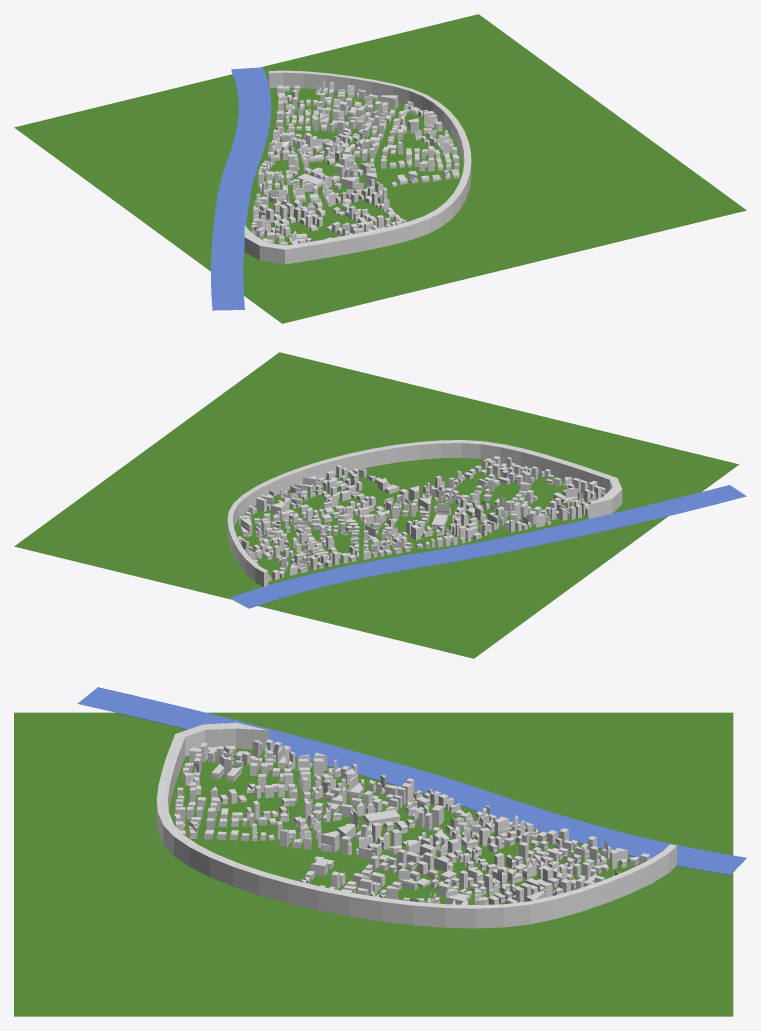
Rendered from townMap.glb.
3 views of the same model, one above another, from view 1: azimuth 30°, elevation 25°; view 2: azimuth 150°, elevation 25°; view 3: azimuth 270°, elevation 25° (orthographic). The views are drawn at different scales.
Parts seen in each view (by area): view 1: Plane, Curve.446, Curve.030, Curve.231; view 2: Plane, Curve.446, Curve.030, Curve.231; view 3: Plane, Curve.446, Curve.030, Curve.231.
Part boxes in pixels (bbox=[...]): Plane: bbox=[14, 14, 746, 323]; Curve.446: bbox=[251, 81, 459, 245]; Curve.030: bbox=[244, 70, 471, 264]; Curve.231: bbox=[211, 67, 271, 310]; Plane: bbox=[14, 352, 738, 658]; Curve.446: bbox=[238, 456, 605, 581]; Curve.030: bbox=[227, 440, 622, 586]; Curve.231: bbox=[229, 485, 746, 608]; Plane: bbox=[14, 712, 733, 1016]; Curve.446: bbox=[174, 739, 649, 904]; Curve.030: bbox=[156, 722, 676, 928]; Curve.231: bbox=[77, 687, 746, 875].
Bounding box in the file's own units: 24.3 × 0.8 × 22.86.
